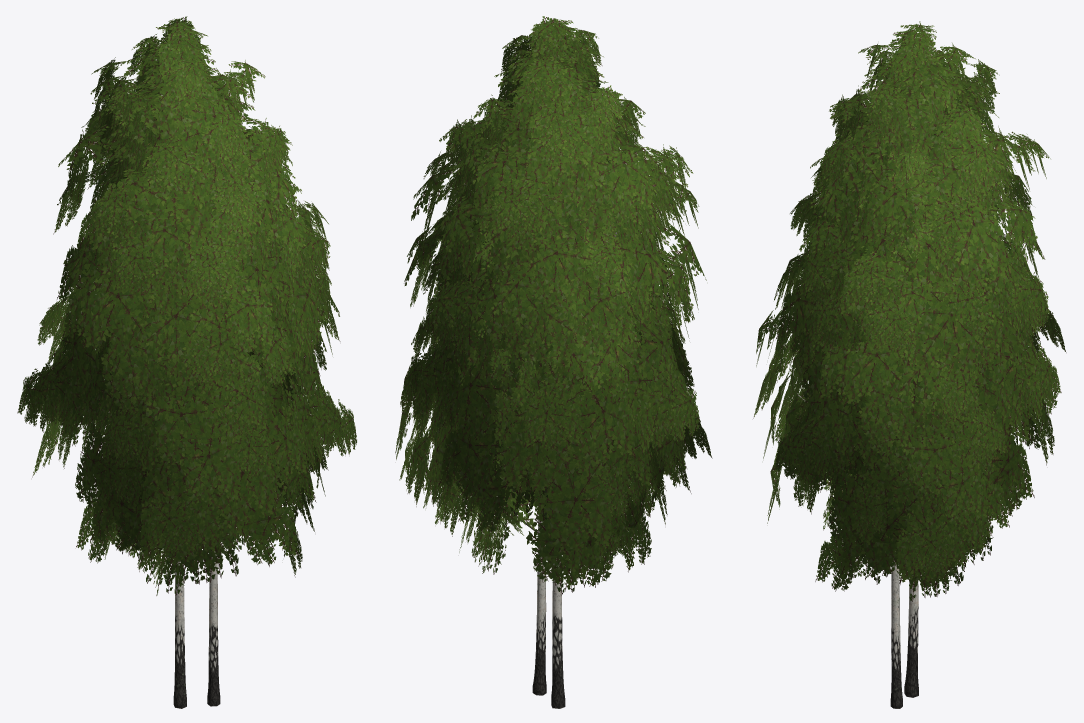
File: BirchCoppice.glb
3 views of the same model, side by side, from view 1: azimuth 30°, elevation 25°; view 2: azimuth 150°, elevation 25°; view 3: azimuth 270°, elevation 25° (orthographic). The views are drawn at different scales.
Visible parts, largest first — view 1: leaves_lod2 (×2), trunk_lod2 (×2); view 2: leaves_lod2 (×2), trunk_lod2 (×2); view 3: leaves_lod2 (×2), trunk_lod2 (×2).
Part boxes in pixels (x1,y1,x2,y2): leaves_lod2 (×2): (17,16,356,595); trunk_lod2 (×2): (173,551,220,708); leaves_lod2 (×2): (395,16,712,594); trunk_lod2 (×2): (532,515,565,708); leaves_lod2 (×2): (753,21,1066,601); trunk_lod2 (×2): (890,551,918,708).
Bounding box in the file's own units: 6.16 × 13.43 × 5.82.
Materials: 3 (3 with a texture image).
